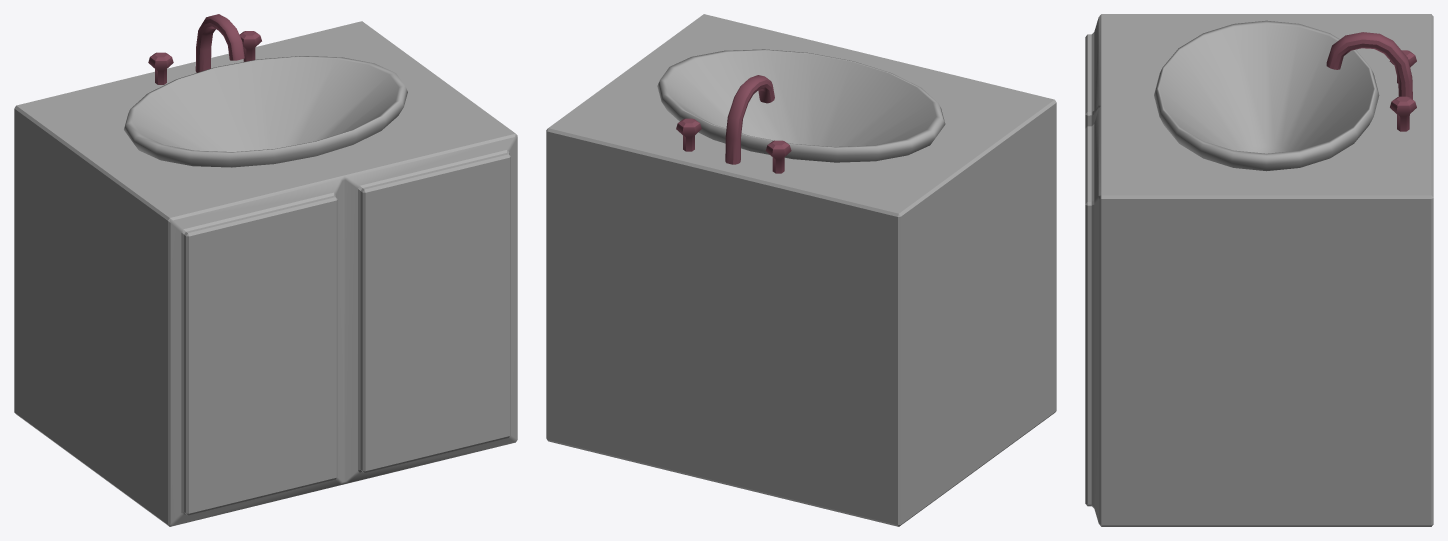
The model's file is handfat2.fbx.
3 renders of one model, left to right at view 1: azimuth 30°, elevation 25°; view 2: azimuth 150°, elevation 25°; view 3: azimuth 270°, elevation 25°, orthographic. The views are drawn at different scales.
Visible parts, largest first — view 1: pCube6, pCylinder8, pSphere6; view 2: pCube6, pCylinder8, pSphere6; view 3: pCube6, pCylinder8, pSphere6.
Part boxes in pixels (x1=…): pCube6: x1=14, y1=21, x2=517, y2=526; pCylinder8: x1=195, y1=14, x2=244, y2=72; pSphere6: x1=148, y1=31, x2=261, y2=84; pCube6: x1=546, y1=14, x2=1056, y2=526; pCylinder8: x1=725, y1=75, x2=774, y2=164; pSphere6: x1=676, y1=118, x2=791, y2=173; pCube6: x1=1085, y1=14, x2=1433, y2=526; pCylinder8: x1=1326, y1=32, x2=1412, y2=99; pSphere6: x1=1389, y1=50, x2=1416, y2=131.
Size of the model in its own units: 1.67 by 1.71 by 1.34.
